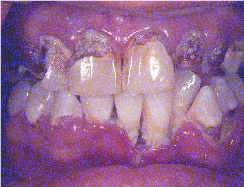karies: (174, 30, 204, 70), (75, 36, 111, 59), (39, 37, 70, 62), (206, 37, 230, 69), (132, 29, 168, 47), (9, 38, 36, 60), (49, 115, 77, 132), (204, 124, 224, 145), (25, 112, 45, 129), (222, 106, 239, 122), (133, 137, 150, 152), (107, 105, 121, 123)
